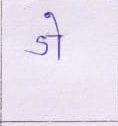e_matra: (44, 12, 66, 34)
